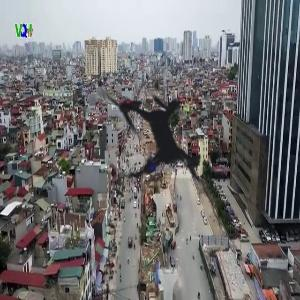drone: (51, 31, 262, 242)
